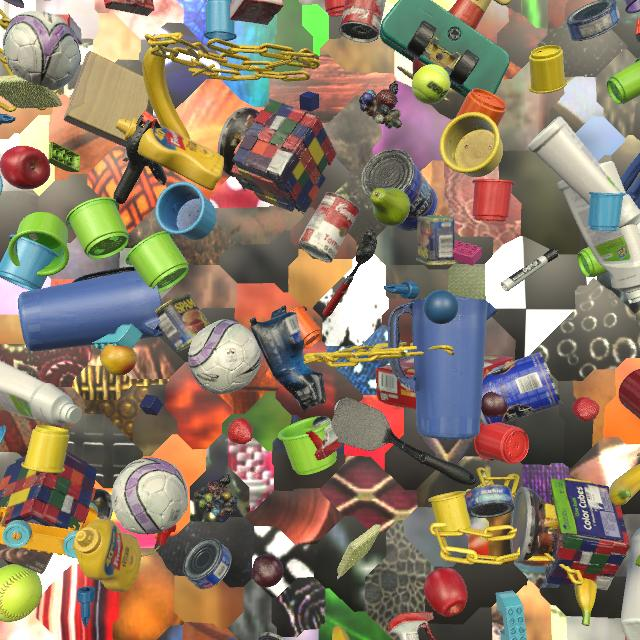ycb_002_master_chef_can: (361, 149, 438, 231), (481, 351, 562, 426)
ycb_003_cracker_box: (376, 354, 513, 410)
ycb_005_tomato_soup_can: (298, 192, 360, 263), (339, 0, 386, 43), (257, 632, 285, 640)
ycb_006_mustard_bottle: (116, 118, 224, 190), (74, 519, 141, 592)
ycb_007_tuna_fish_can: (183, 538, 232, 590), (567, 0, 621, 41), (464, 484, 514, 518)
ycb_008_pudding_box: (0, 501, 53, 574)
ycb_009_gelatin_box: (229, 0, 284, 25), (104, 0, 155, 16), (57, 14, 82, 44)
ycb_010_potted_meat_can: (155, 293, 210, 352), (416, 215, 457, 265)
ycb_011_banana: (143, 38, 190, 139), (609, 464, 640, 506), (574, 579, 597, 626), (332, 625, 350, 640)
ycb_012_strawberry: (572, 397, 600, 422), (227, 418, 252, 445)
ycb_013_apple: (0, 145, 50, 190), (424, 567, 468, 617)
ycb_014_lemon: (0, 406, 2, 412)
ycb_015_peach: (100, 344, 137, 376)
ycb_016_pear: (370, 188, 410, 226)
ycb_017_orange: (258, 132, 261, 136), (46, 0, 50, 1)
ycb_018_plum: (252, 554, 283, 588), (481, 392, 507, 418)
